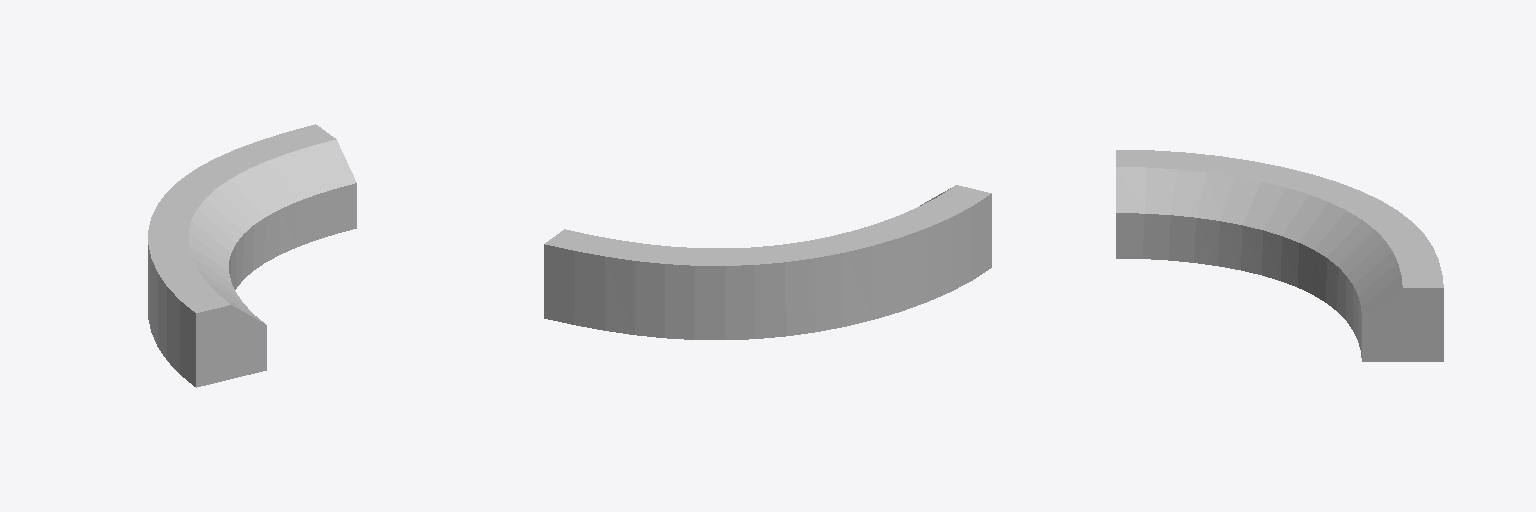
Rendered from Outside_Bend_LP.obj.
3 views of the same model, side by side, from view 1: azimuth 30°, elevation 25°; view 2: azimuth 150°, elevation 25°; view 3: azimuth 270°, elevation 25° (orthographic).
Visible parts, largest first — view 1: Outside_Bend_LP; view 2: Outside_Bend_LP; view 3: Outside_Bend_LP.
Part boxes in pixels (bbox=[...]): Outside_Bend_LP: bbox=[148, 124, 356, 387]; Outside_Bend_LP: bbox=[544, 185, 991, 339]; Outside_Bend_LP: bbox=[1116, 150, 1443, 361].
Size of the model in its own units: 4 by 1 by 4.